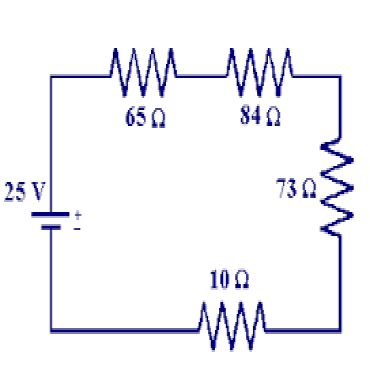Resistor: (275, 137, 357, 242), (196, 267, 270, 358), (105, 45, 180, 130), (224, 44, 296, 127)
Voltage Source: (2, 179, 86, 246)
